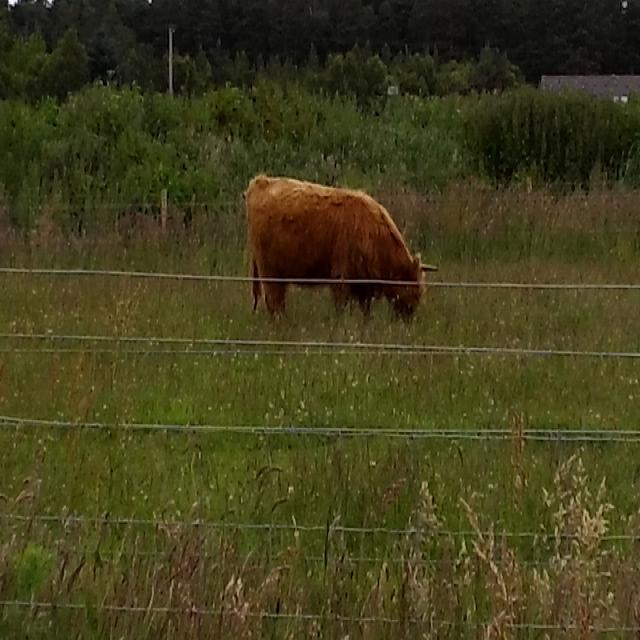cow: (244, 165, 435, 347)
